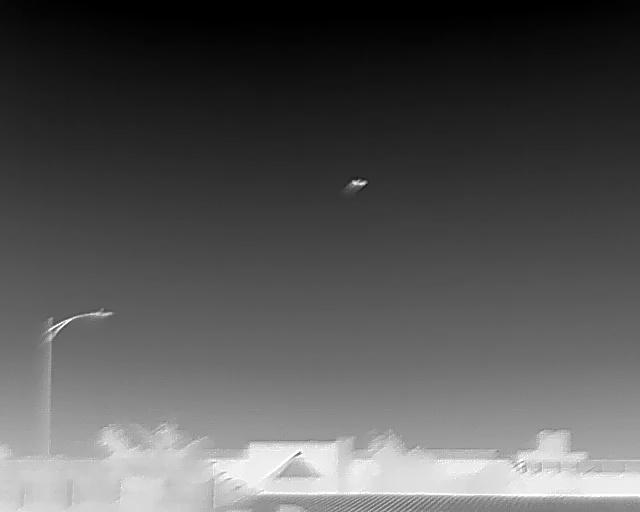fpv-drone: (343, 178, 367, 195)
